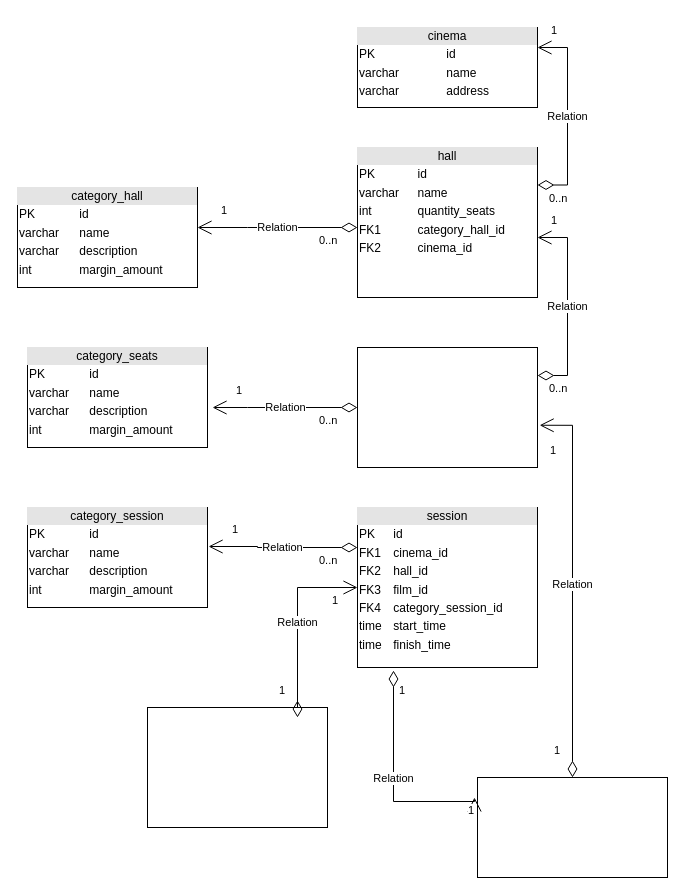
Some shapes in this 685 by 895 pixel diagram are drawn without their labels. Here are the shapes that lost their labels. From the top down, the centre of each, then its label:
At point (447, 407): "seats PK id varchar name FK1 category_seats_id FK2 hall_id bool is_free".
At point (237, 767): "film PK id varchar name varchar description int duration int base_price".
At point (572, 827): "Tickets PK id FK1 session_id FK2 seats_id int price".
